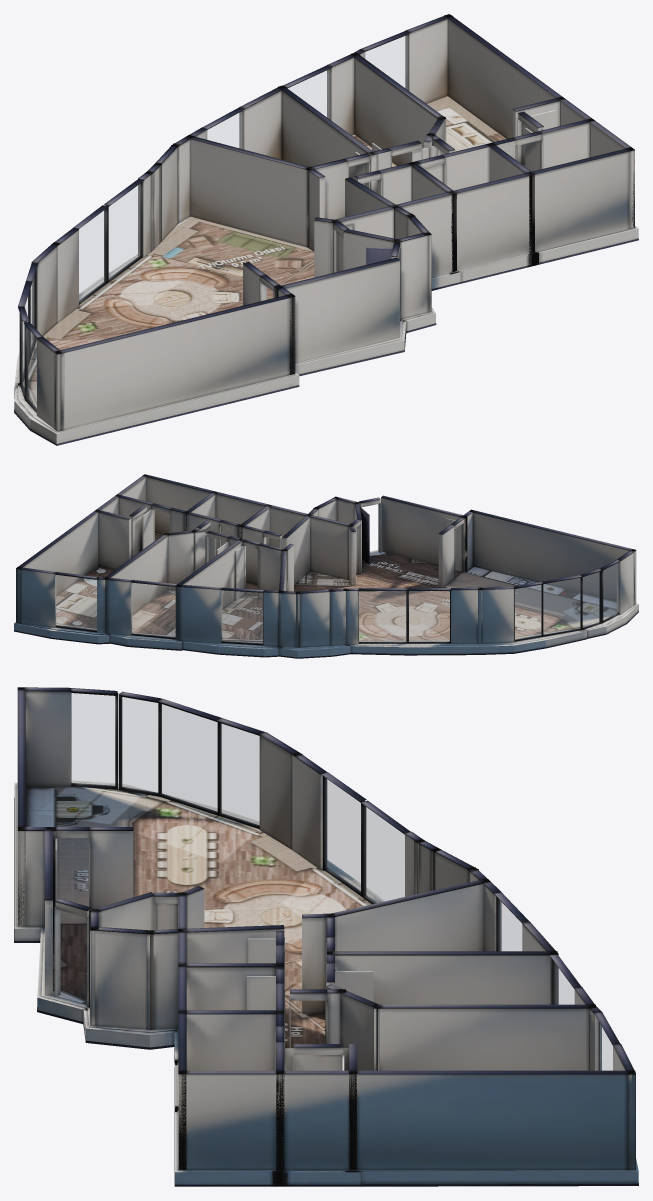
3 renders of one model, top to bottom at view 1: azimuth 30°, elevation 25°; view 2: azimuth 150°, elevation 25°; view 3: azimuth 270°, elevation 25°, orthographic. The views are drawn at different scales.
Visible parts, largest first — view 1: plan, glass5_m, glass4_m, glass8_m, glass7_m, glass6_m, glass0_m; view 2: plan, glass5_m, glass7_m, glass6_m, glass8_m, glass4_m, glass2_m, glass3_m, glass1_m, glass0_m; view 3: plan, glass2_m, glass0_m, glass3_m, glass1_m, glass4_m, glass5_m, glass6_m.
Part boxes in pixels (x1,y1,x2,y2): plan: [14, 14, 638, 445]; glass5_m: [109, 184, 140, 278]; glass4_m: [79, 210, 104, 301]; glass8_m: [365, 35, 407, 89]; glass7_m: [288, 70, 329, 118]; glass6_m: [207, 111, 241, 148]; glass0_m: [27, 328, 36, 409]; plan: [14, 474, 638, 658]; glass5_m: [359, 591, 405, 641]; glass7_m: [132, 583, 175, 637]; glass6_m: [222, 590, 262, 643]; glass8_m: [56, 575, 96, 630]; glass4_m: [409, 591, 449, 641]; glass2_m: [543, 578, 580, 634]; glass3_m: [515, 585, 541, 639]; glass1_m: [583, 572, 599, 627]; glass0_m: [603, 563, 618, 620]; plan: [14, 687, 638, 1186]; glass2_m: [161, 704, 217, 811]; glass0_m: [71, 693, 114, 786]; glass3_m: [220, 723, 259, 825]; glass1_m: [122, 697, 157, 793]; glass4_m: [325, 778, 360, 892]; glass5_m: [365, 806, 404, 902]; glass6_m: [498, 899, 521, 950].
Bounding box in the file's own units: 19.83 × 2.62 × 13.35.
2 materials, 1 textured.
